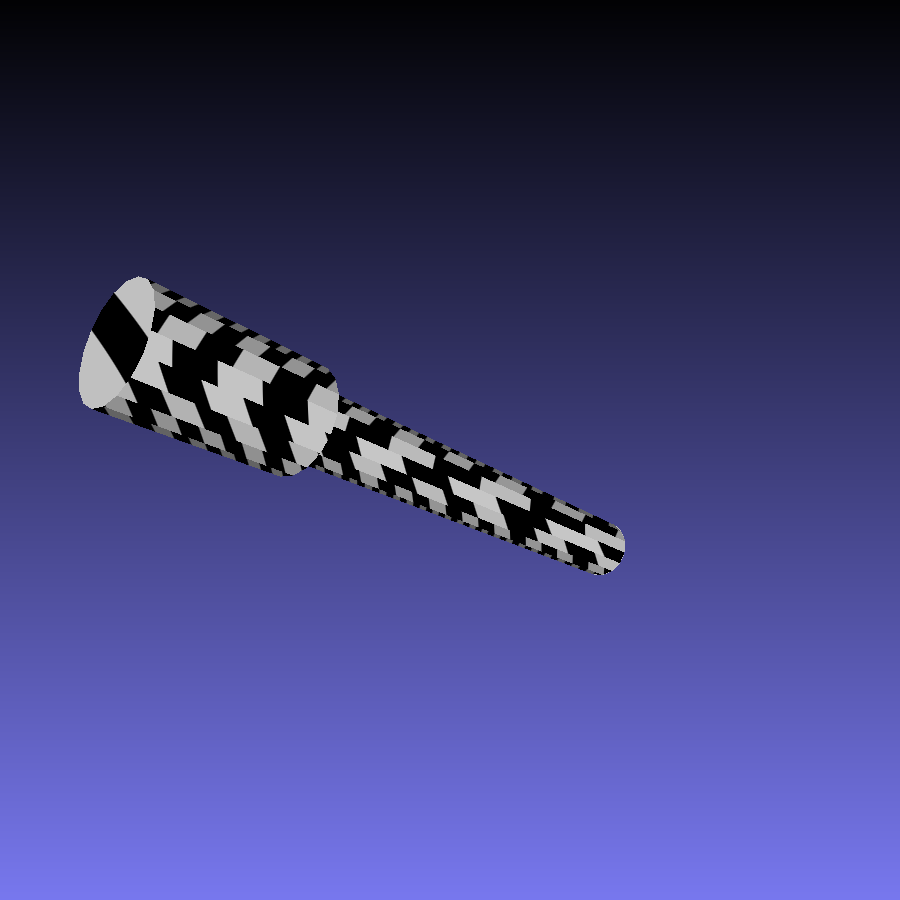cargo_g: (78, 277, 626, 579)
